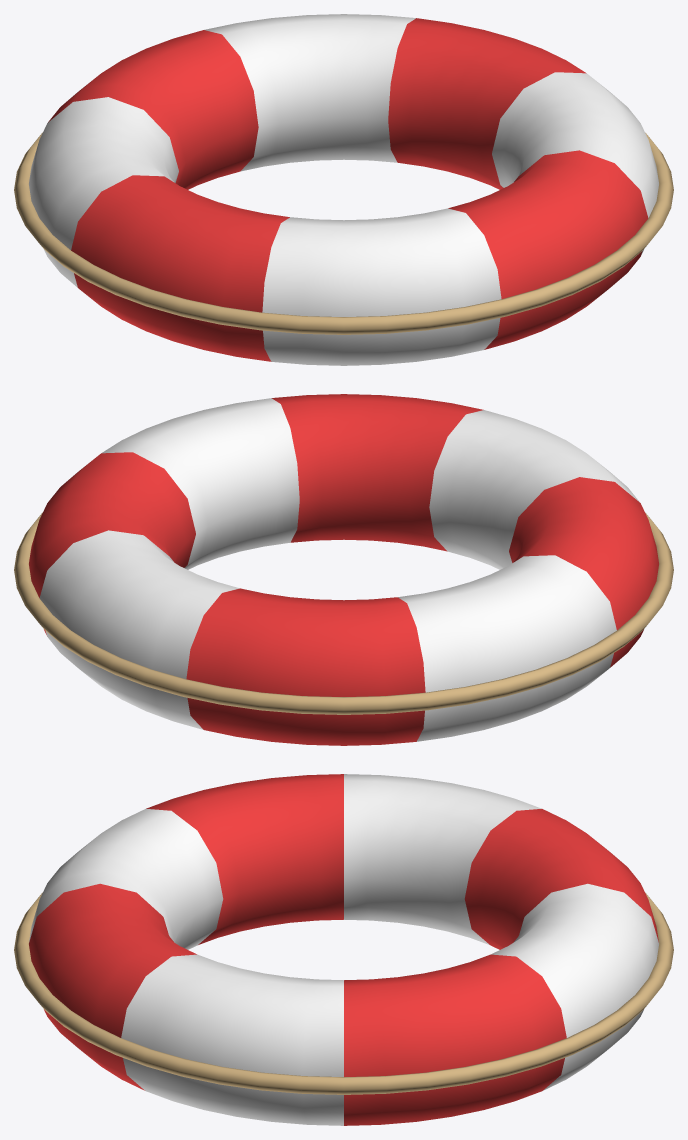
The model's file is BumperLifebuoy.obj.
3 renders of one model, top to bottom at view 1: azimuth 30°, elevation 25°; view 2: azimuth 150°, elevation 25°; view 3: azimuth 270°, elevation 25°, orthographic.
Visible parts, largest first — view 1: Red, White, Rope; view 2: White, Red, Rope; view 3: Red, White, Rope.
Boxes of the visible parts, <box> form: Red: <box>48,18,648,361</box>; White: <box>29,14,658,365</box>; Rope: <box>14,132,673,334</box>; White: <box>39,398,639,741</box>; Red: <box>29,394,658,745</box>; Rope: <box>14,512,673,714</box>; Red: <box>29,774,658,1125</box>; White: <box>29,774,658,1125</box>; Rope: <box>14,892,673,1094</box>.
Bounding box in the file's own units: 4.06 × 0.9 × 4.06.
